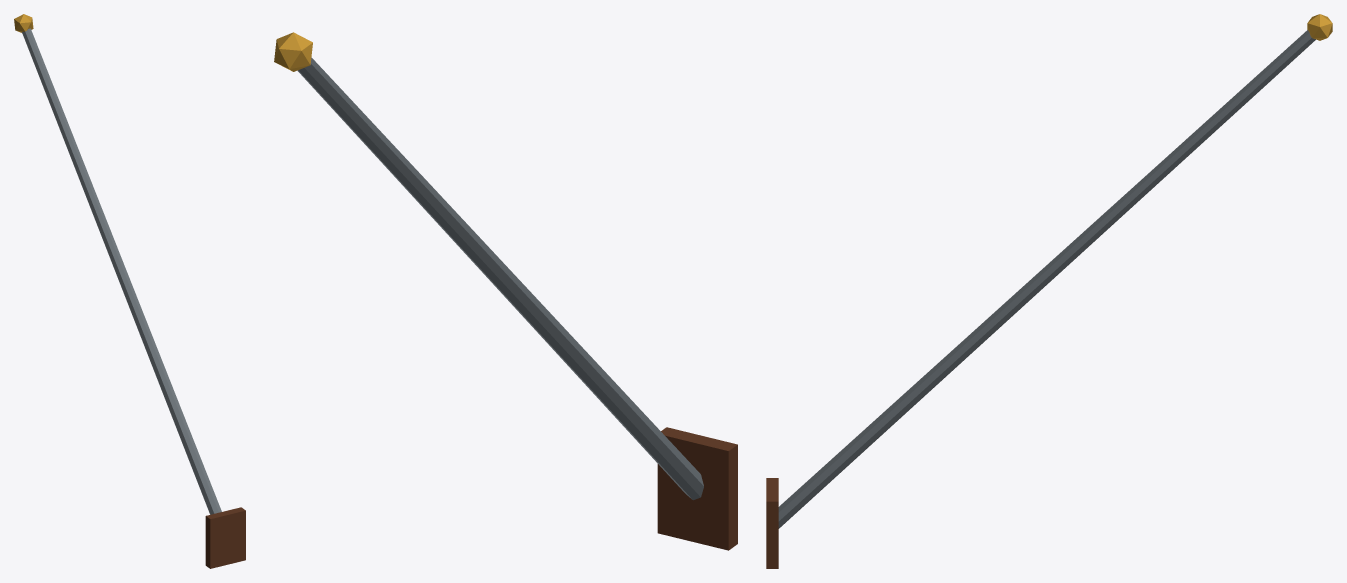
File: flag_pole_wall.glb
The picture shows the model from 3 angles, left to right: view 1: azimuth 30°, elevation 25°; view 2: azimuth 150°, elevation 25°; view 3: azimuth 270°, elevation 25°; orthographic projection. The views are drawn at different scales.
Visible parts, largest first — view 1: flag_pole_wall; view 2: flag_pole_wall; view 3: flag_pole_wall.
Part boxes in pixels (x1,y1,x2,y2): flag_pole_wall: [14, 14, 245, 568]; flag_pole_wall: [274, 32, 737, 550]; flag_pole_wall: [766, 14, 1332, 568].
Size of the model in its own units: 0.18 by 1.94 by 1.83.
2 materials, 2 textured.
